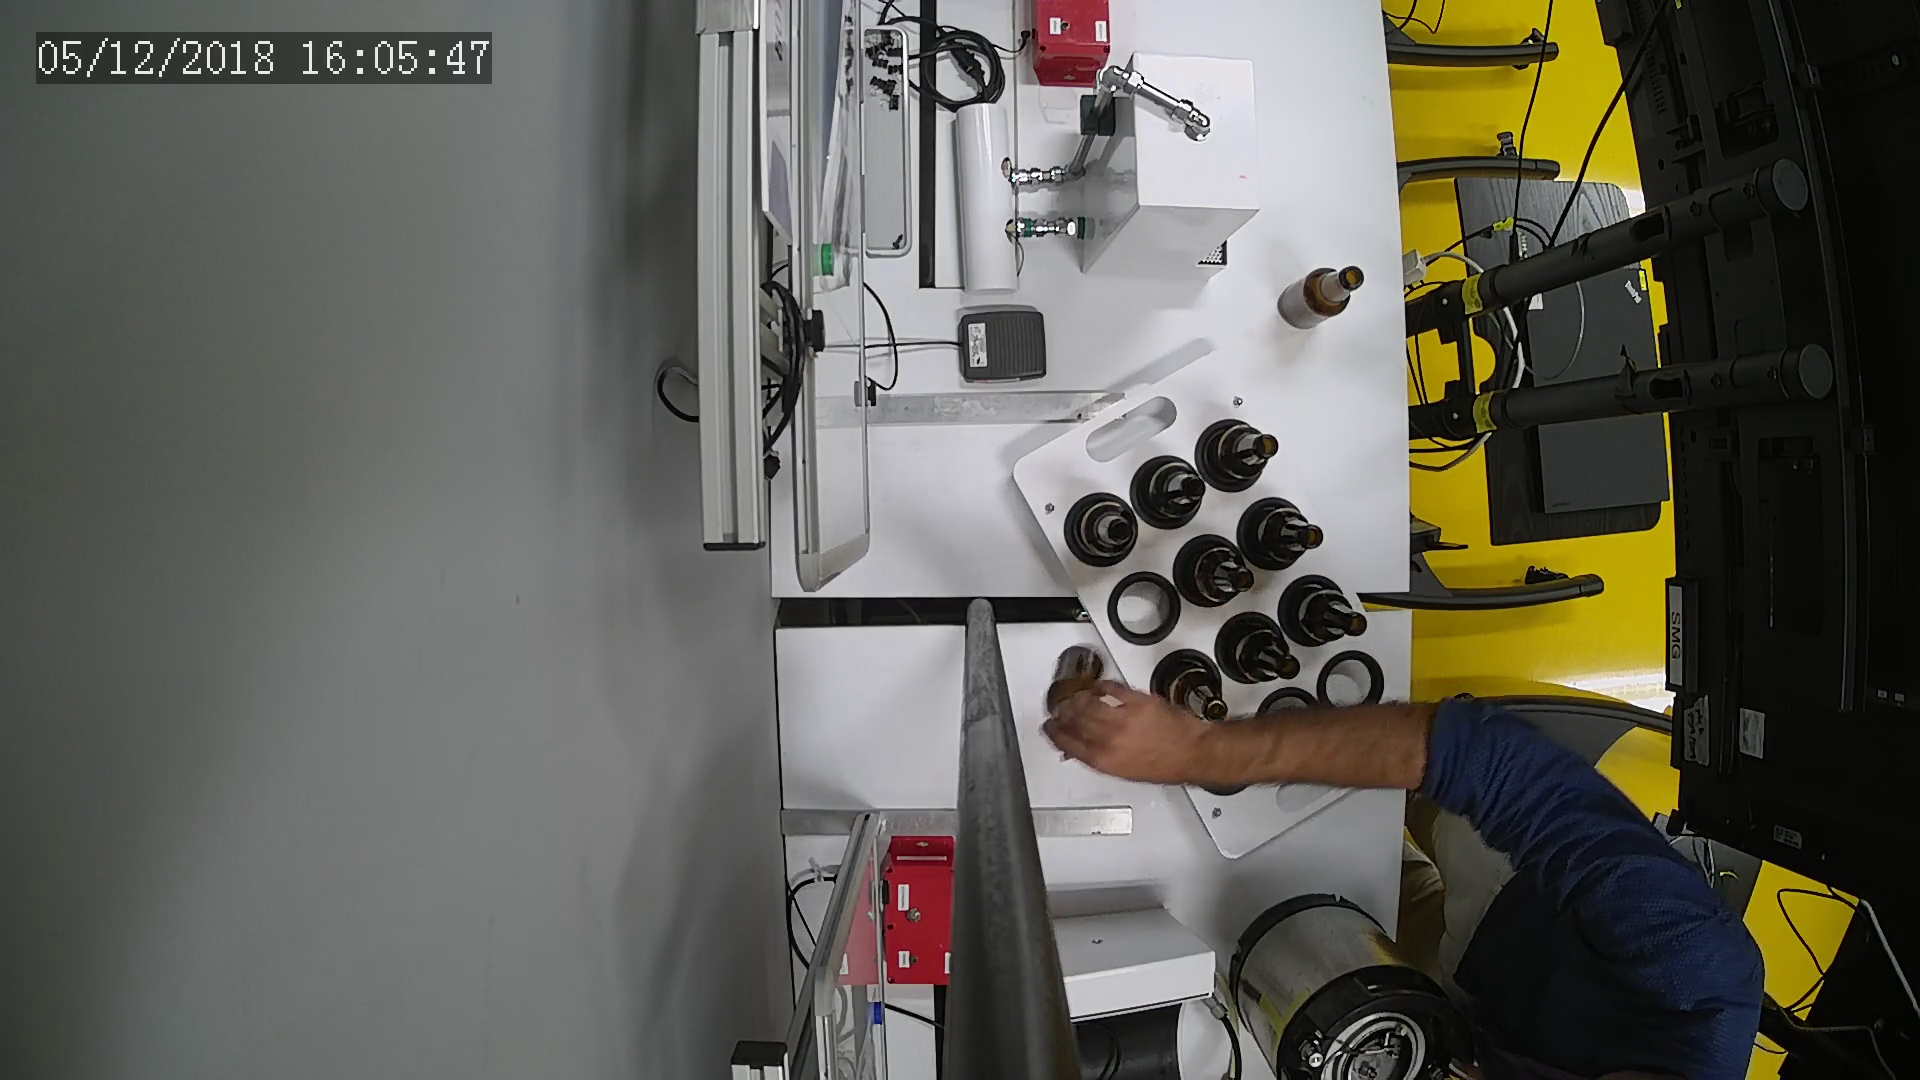filled_bottle: (1283, 572, 1375, 655), (1062, 491, 1147, 574), (1218, 613, 1305, 691), (1153, 647, 1236, 727), (1245, 498, 1328, 572), (1131, 454, 1211, 530), (1178, 534, 1258, 609), (1201, 415, 1278, 491)
trolley: (1011, 349, 1424, 868)
unfilled_bottle: (1278, 265, 1371, 328)
